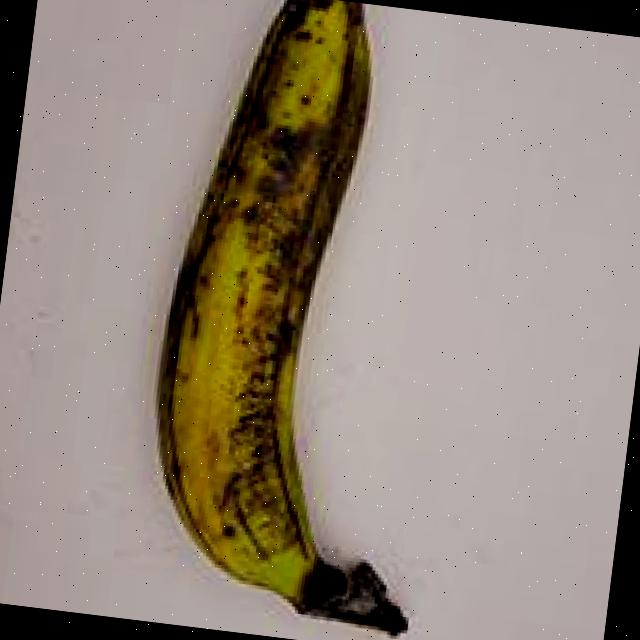Overripe: (72, 0, 521, 640)
